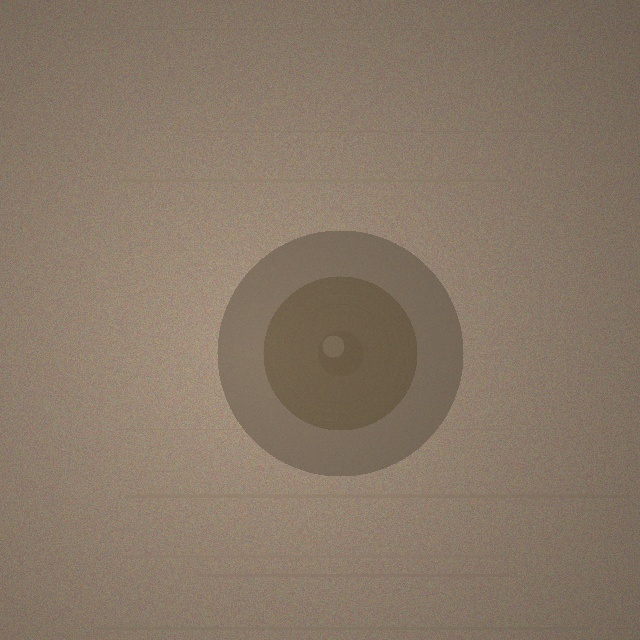good: (217, 230, 463, 476)
